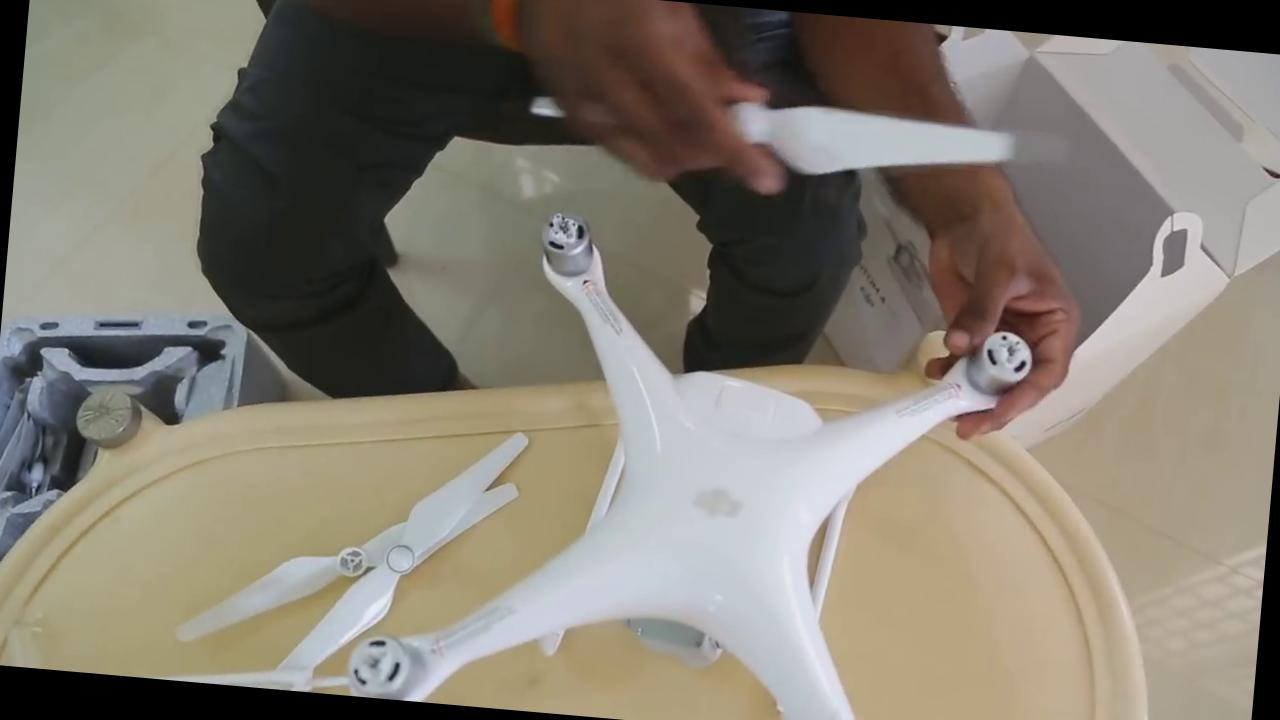drone: (339, 197, 1074, 720)
